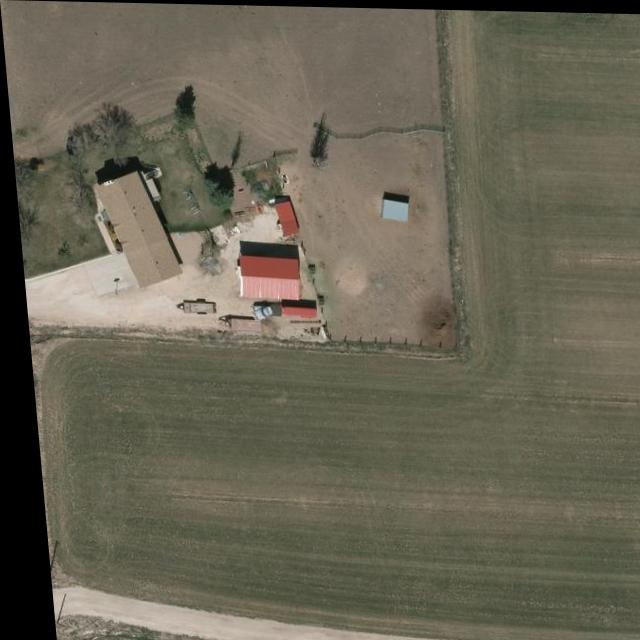vehicle: (245, 301, 279, 318)
